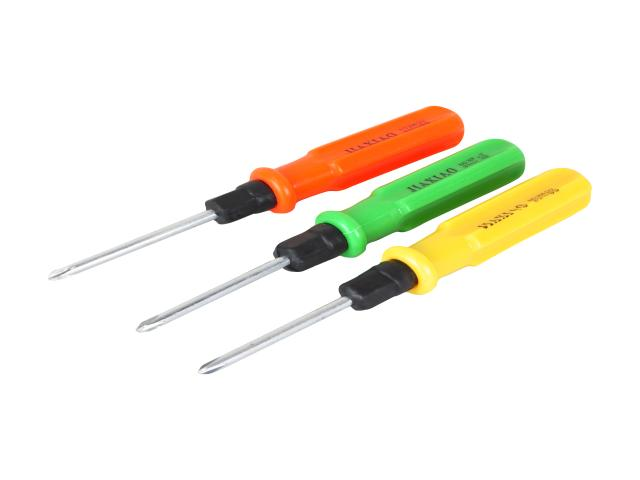Screwdriver: (199, 168, 591, 374), (136, 139, 525, 332), (49, 106, 464, 280)
